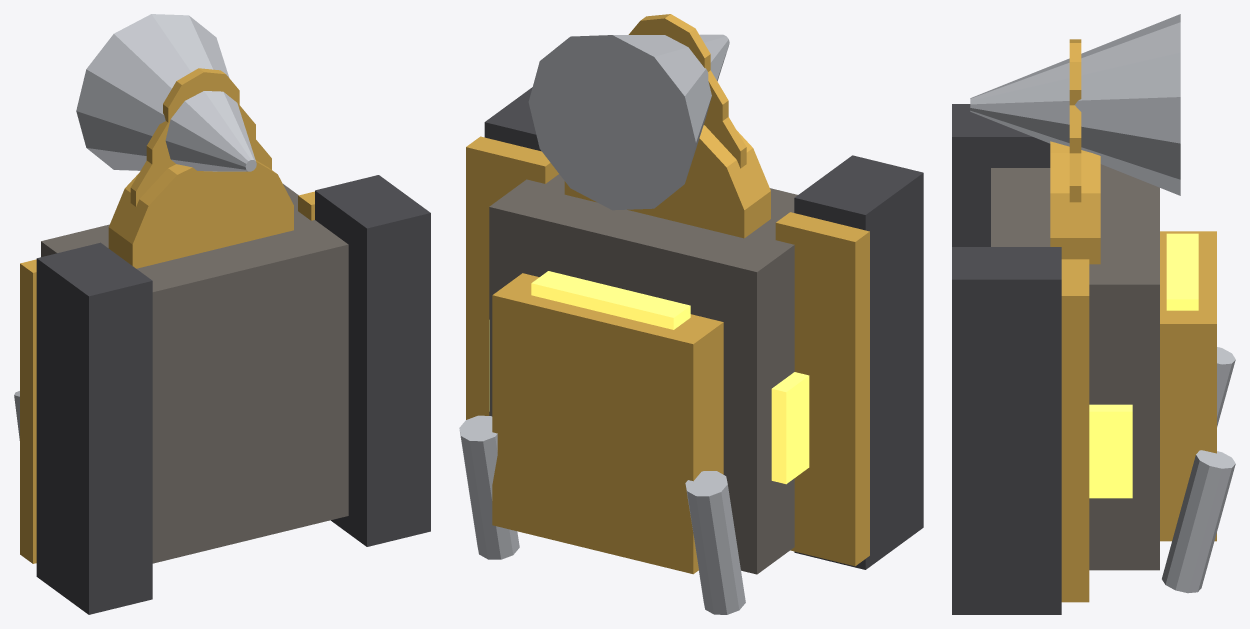
The model's file is enemy_ariete_trivella.glb.
3 views of the same model, side by side, from view 1: azimuth 30°, elevation 25°; view 2: azimuth 150°, elevation 25°; view 3: azimuth 270°, elevation 25° (orthographic). The views are drawn at different scales.
Visible parts, largest first — view 1: HullMain, TrackL, TrackR, DrillAuger, DrillCollar, FenderL, AugerFlange_2, AugerFlange_0, AugerFlange_1; view 2: HullTop, HullMain, DrillAuger, TrackL, FenderL, FenderR, DrillCollar, ExhaustL, ExhaustR, VisorGlow, CoreVentL, TrackR (+2 smaller); view 3: TrackR, HullMain, DrillAuger, HullTop, FenderR, TrackL, ExhaustR, DrillCollar, CoreVentR, VisorGlow, AugerFlange_2, ExhaustL (+2 smaller).
Part boxes in pixels (x1,y1,x2,y2): HullMain: [41, 184, 348, 563]; TrackL: [36, 242, 152, 614]; TrackR: [315, 175, 430, 546]; DrillAuger: [76, 14, 256, 171]; DrillCollar: [108, 160, 293, 268]; FenderL: [20, 259, 36, 563]; AugerFlange_2: [163, 68, 239, 125]; AugerFlange_0: [130, 140, 271, 206]; AugerFlange_1: [146, 100, 255, 182]; HullTop: [492, 273, 723, 574]; HullMain: [489, 174, 797, 574]; DrillAuger: [528, 34, 729, 210]; TrackL: [794, 155, 923, 569]; FenderL: [775, 212, 869, 566]; FenderR: [466, 136, 558, 419]; DrillCollar: [564, 125, 770, 238]; ExhaustL: [685, 471, 745, 614]; ExhaustR: [459, 415, 519, 559]; VisorGlow: [531, 271, 690, 329]; CoreVentL: [771, 372, 809, 484]; TrackR: [484, 87, 541, 151]; TrackR: [952, 247, 1061, 614]; HullMain: [991, 164, 1159, 570]; DrillAuger: [970, 14, 1180, 195]; HullTop: [1160, 231, 1216, 541]; FenderR: [1061, 259, 1089, 602]; TrackL: [952, 104, 1050, 246]; ExhaustR: [1162, 450, 1235, 593]; DrillCollar: [1050, 141, 1100, 264]; CoreVentR: [1089, 404, 1132, 498]; VisorGlow: [1166, 233, 1198, 310]; AugerFlange_2: [1069, 39, 1081, 105]; ExhaustL: [1217, 347, 1235, 426].
Size of the model in its own units: 1.86 by 2.48 by 1.24.
